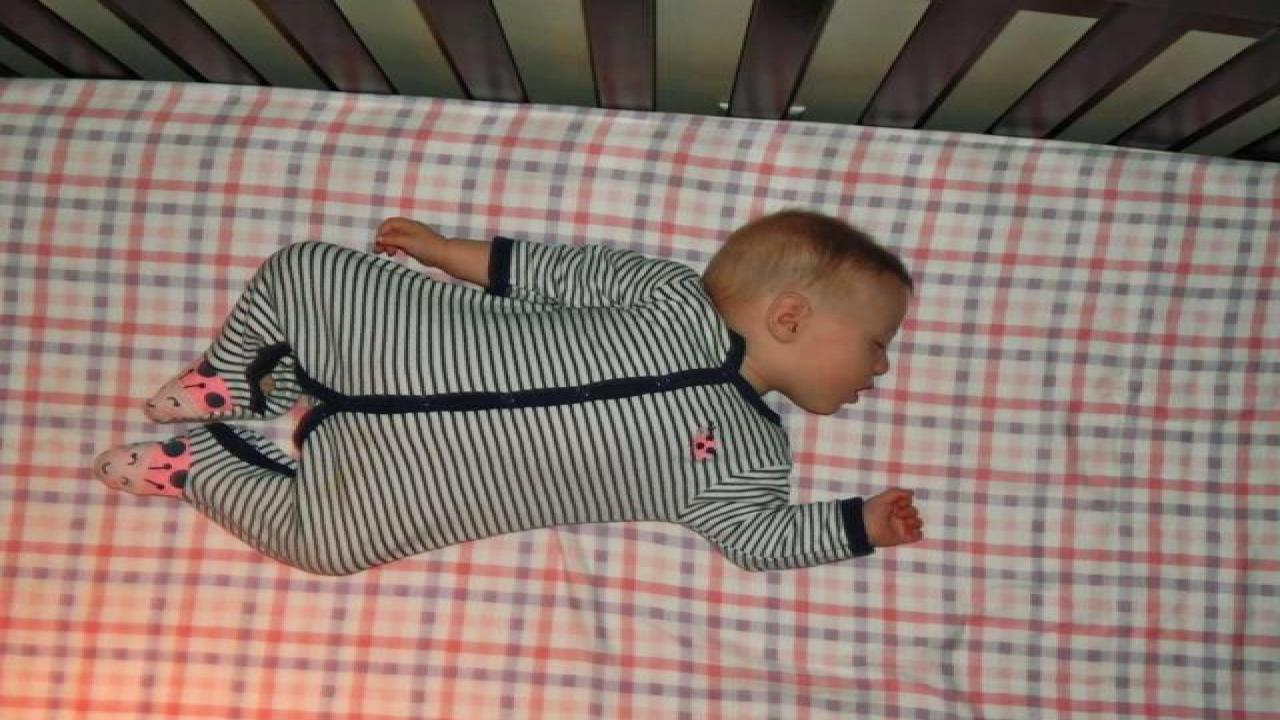hand: (860, 485, 931, 550), (374, 218, 443, 260)
